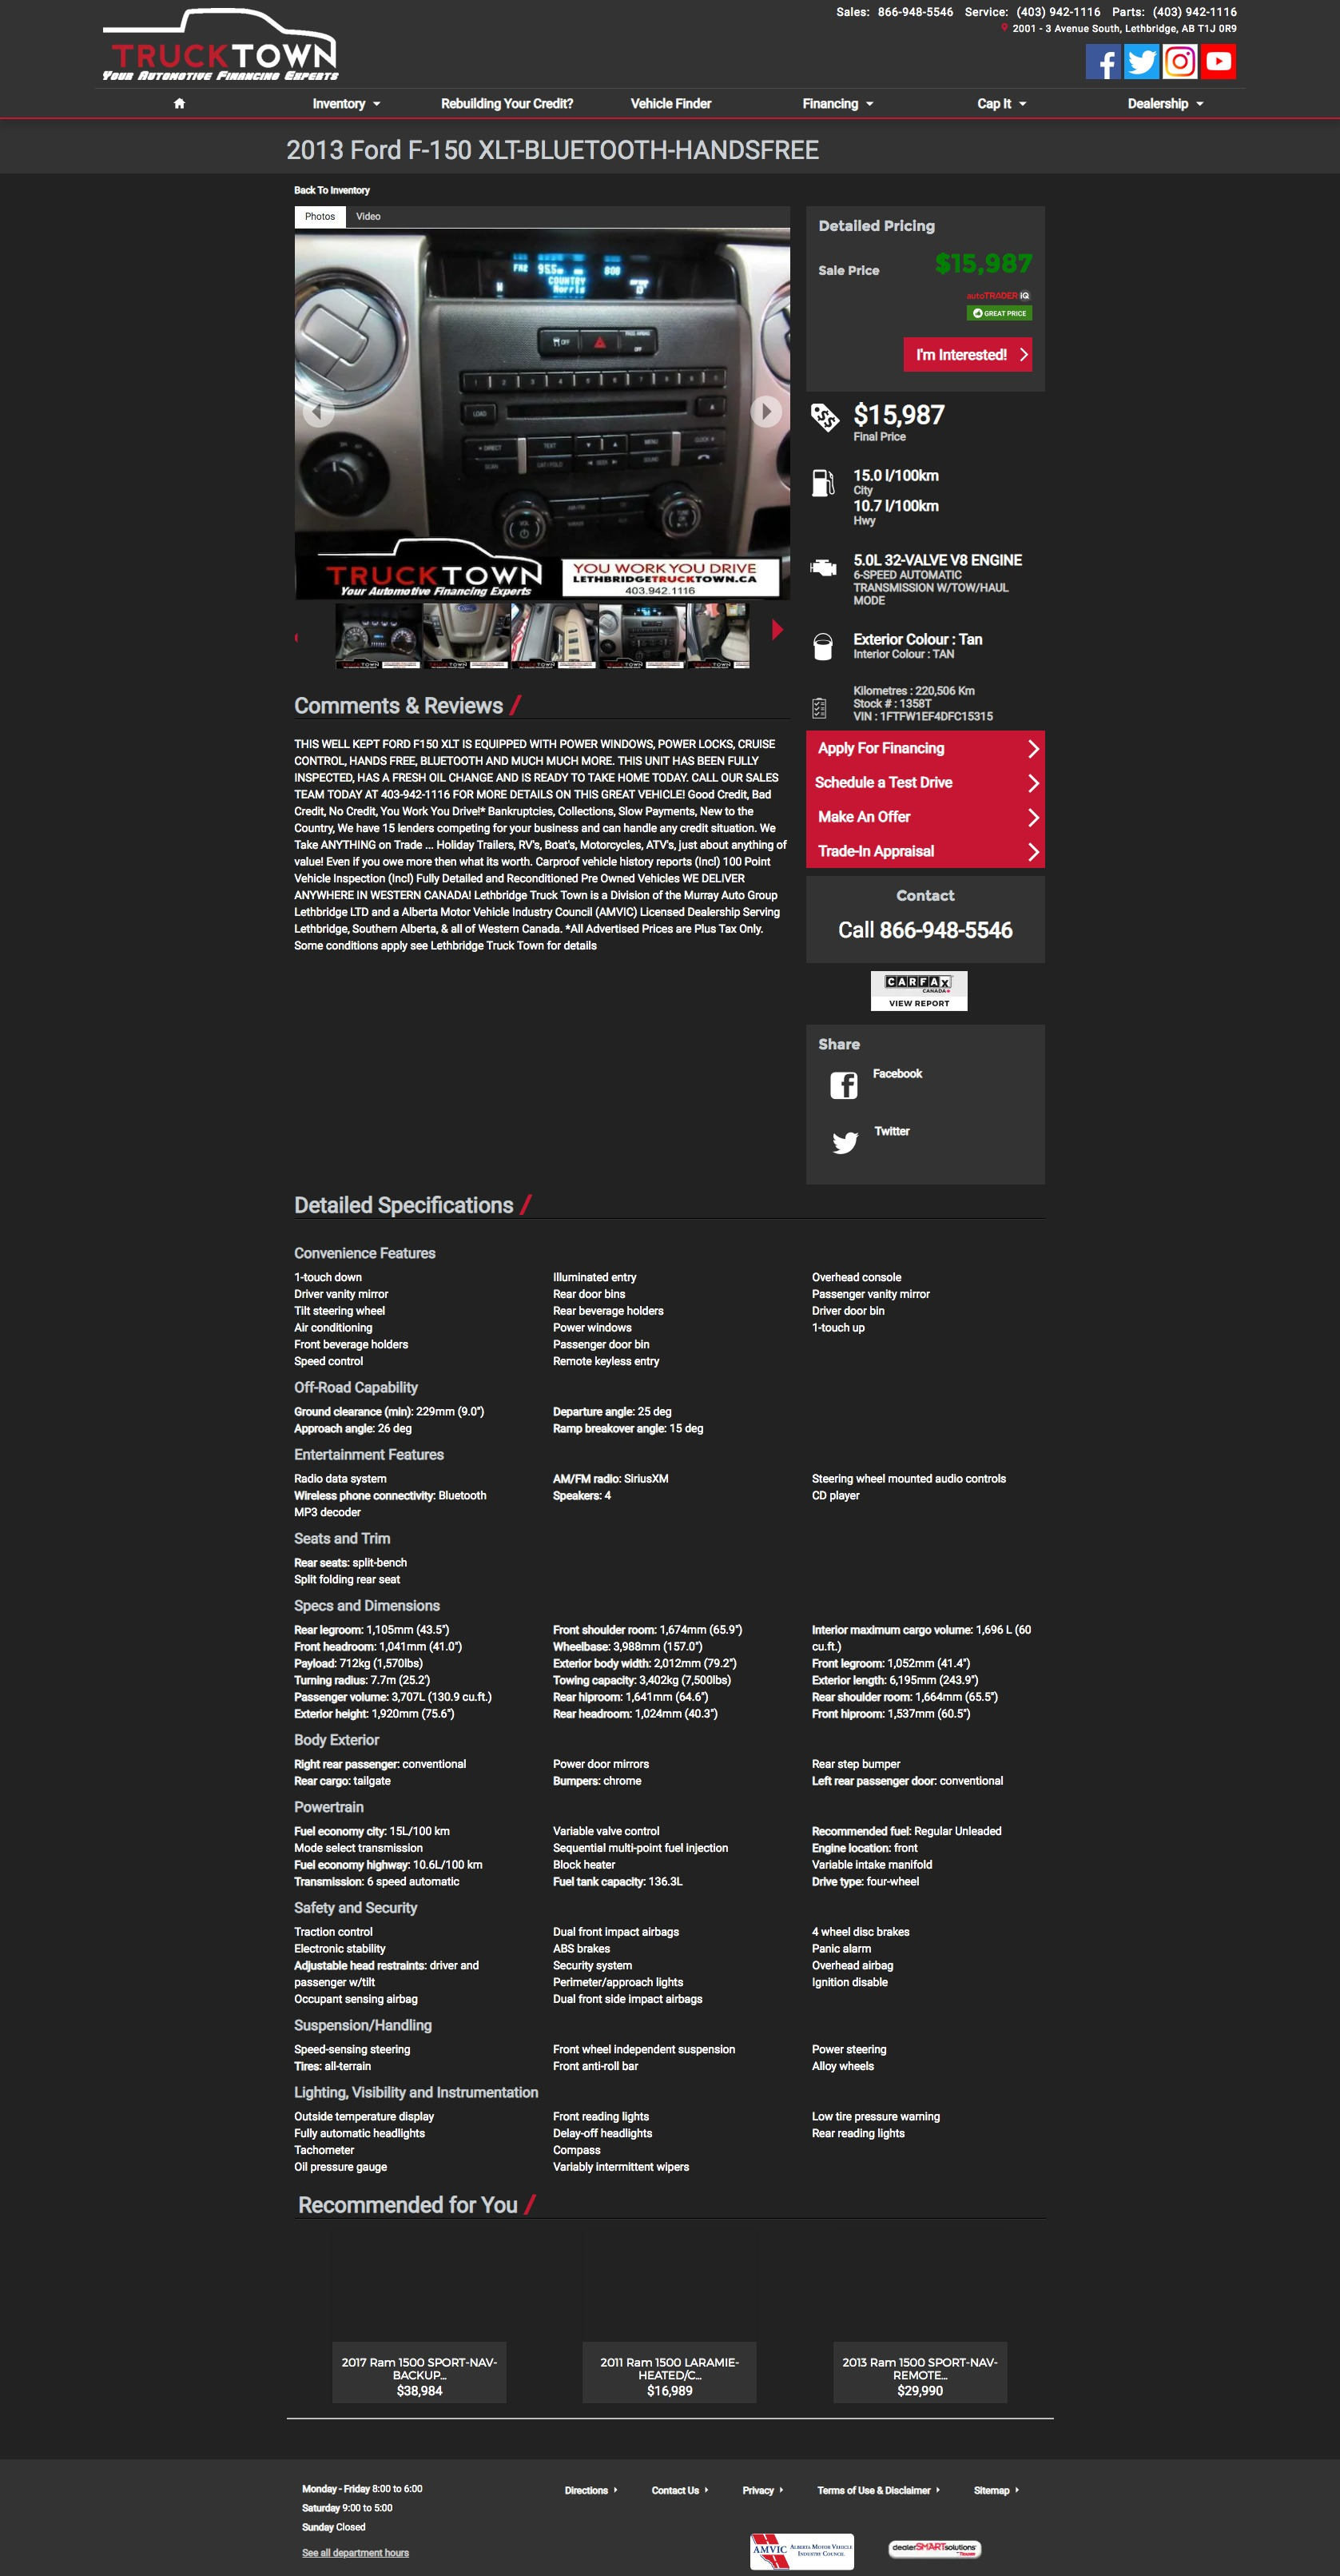car: (771, 620, 783, 641)
